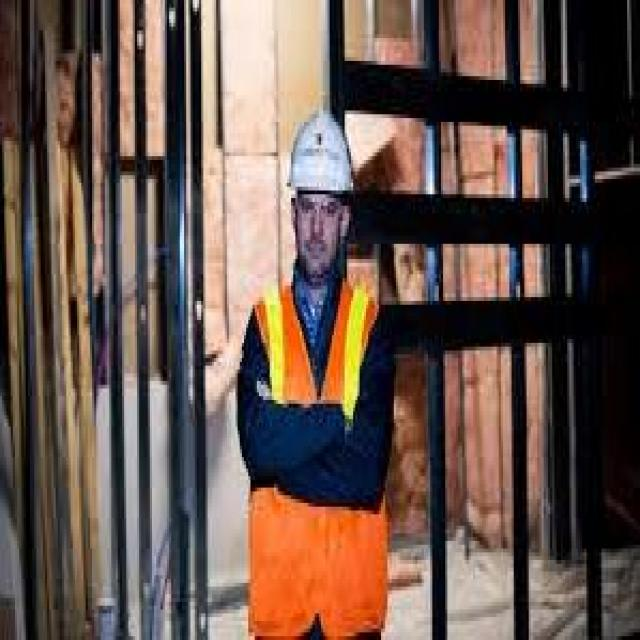Reflective-Jacket: (229, 266, 398, 640)
Safety-Helmet: (278, 99, 364, 213)
